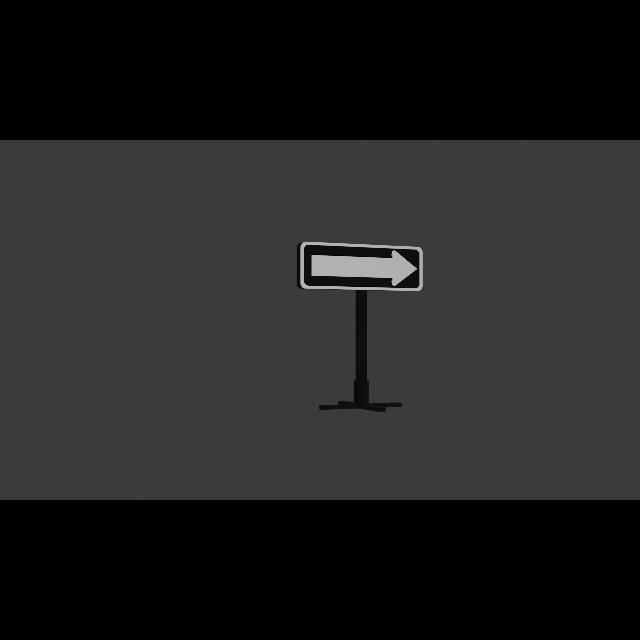sign_oneway_right: (297, 240, 425, 296)
